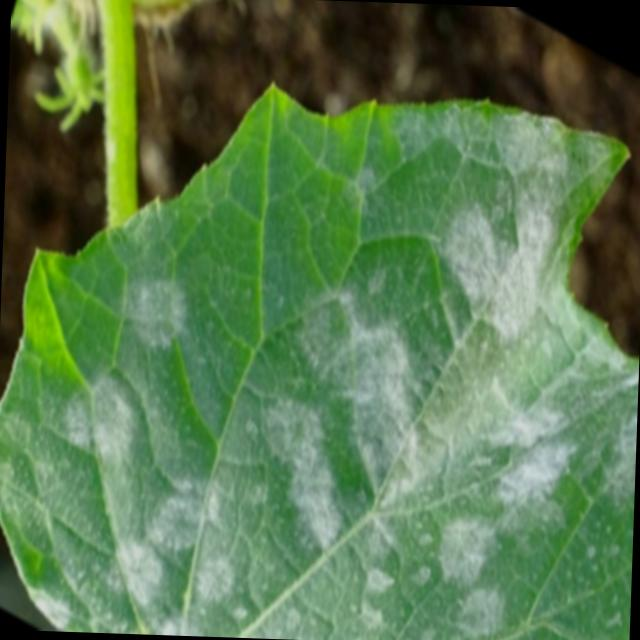Powdery_Mildew: (0, 59, 640, 640), (382, 92, 627, 360), (25, 328, 231, 636), (97, 227, 216, 368)
